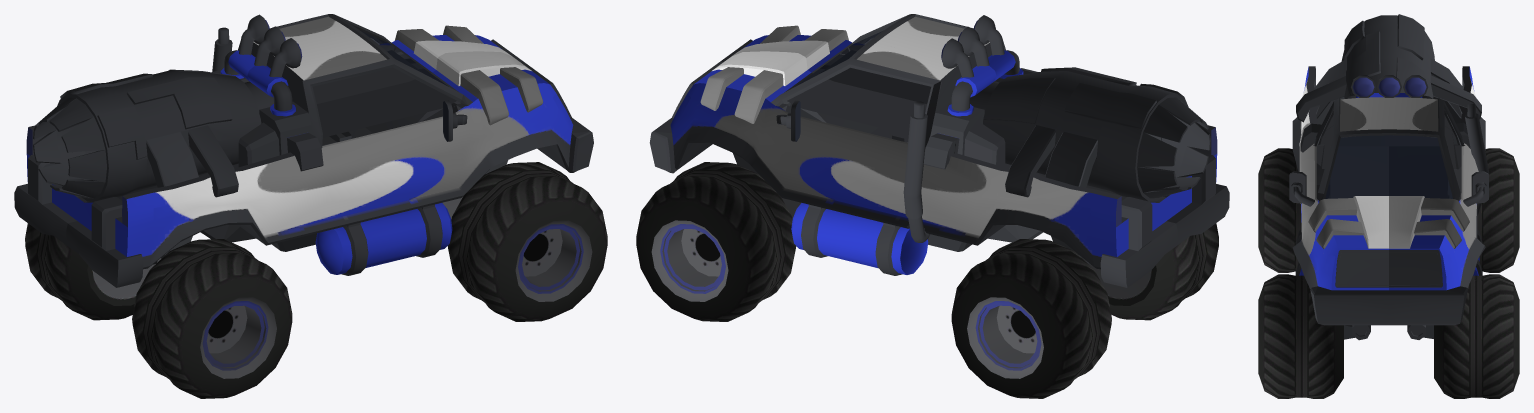
File: renegade.obj
3 views of the same model, side by side, from view 1: azimuth 30°, elevation 25°; view 2: azimuth 150°, elevation 25°; view 3: azimuth 270°, elevation 25° (orthographic). The views are drawn at different scales.
Size of the model in its own units: 2.25 by 1.26 by 1.25.
Materials: 3 (2 with a texture image).
